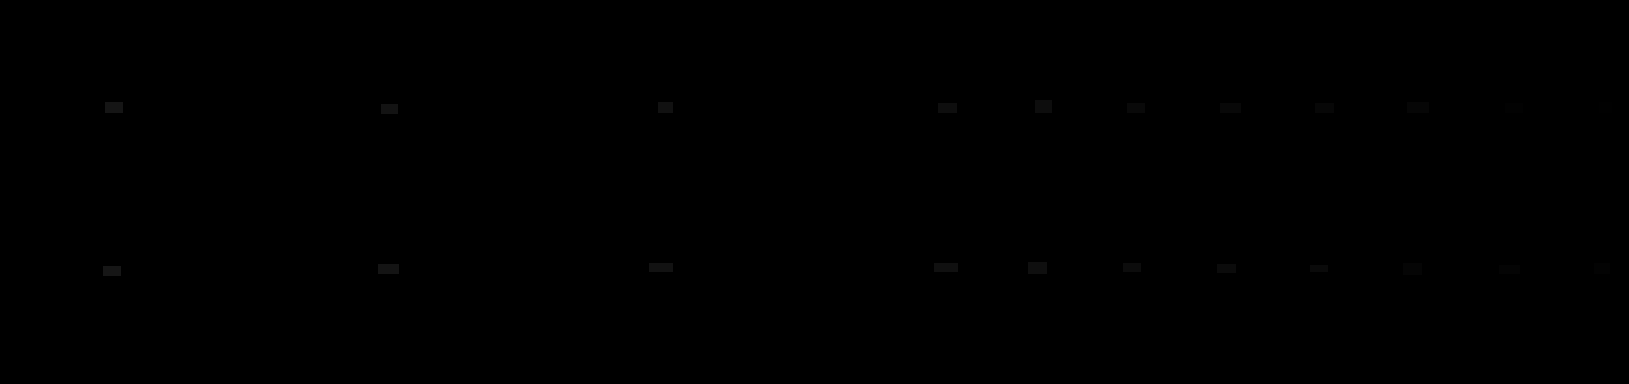light: (1407, 102, 1428, 113), (1403, 263, 1422, 275), (1035, 100, 1052, 113), (1029, 262, 1047, 274), (1220, 103, 1241, 113), (934, 263, 958, 272), (649, 263, 673, 272), (378, 264, 399, 274), (105, 102, 123, 113), (1499, 265, 1520, 274), (1315, 103, 1334, 113), (938, 103, 957, 113), (1594, 263, 1610, 274), (1217, 264, 1236, 273), (1505, 103, 1523, 113), (1127, 103, 1145, 113), (103, 266, 121, 276), (658, 102, 673, 113), (381, 104, 398, 114), (1123, 263, 1141, 272), (1599, 102, 1612, 113), (1310, 265, 1328, 272)
